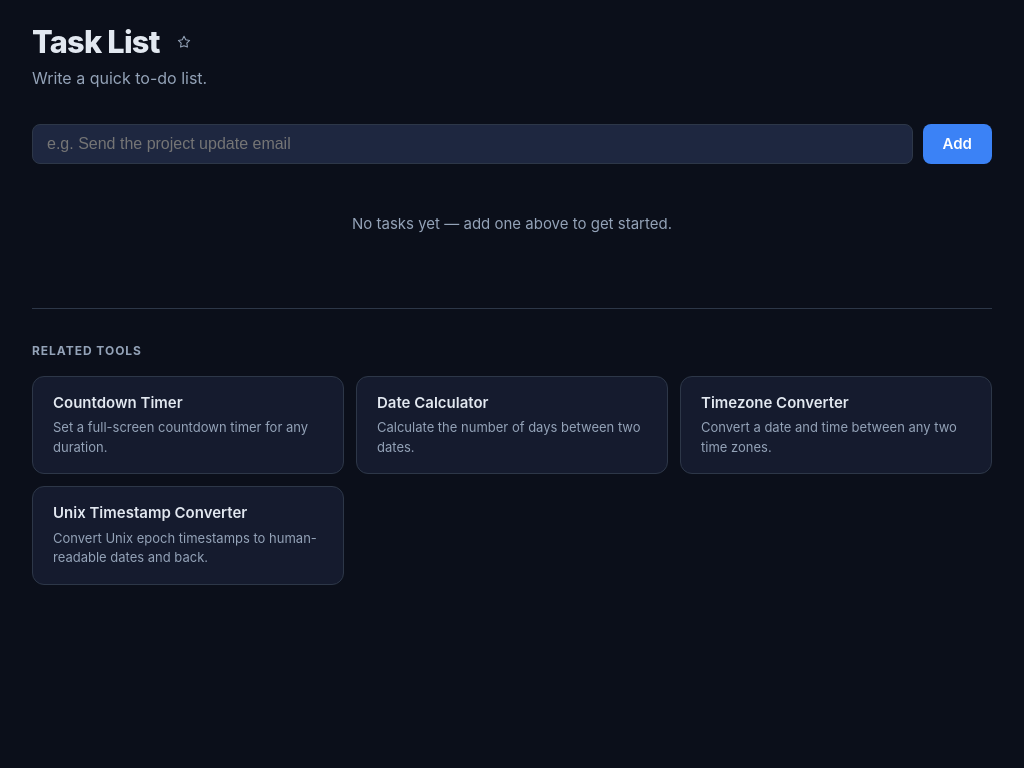
Test: TaskList › adds a task and shows it in the list
Type "Buy milk" into the field named "New task" at (472, 144), box [32, 124, 913, 164]
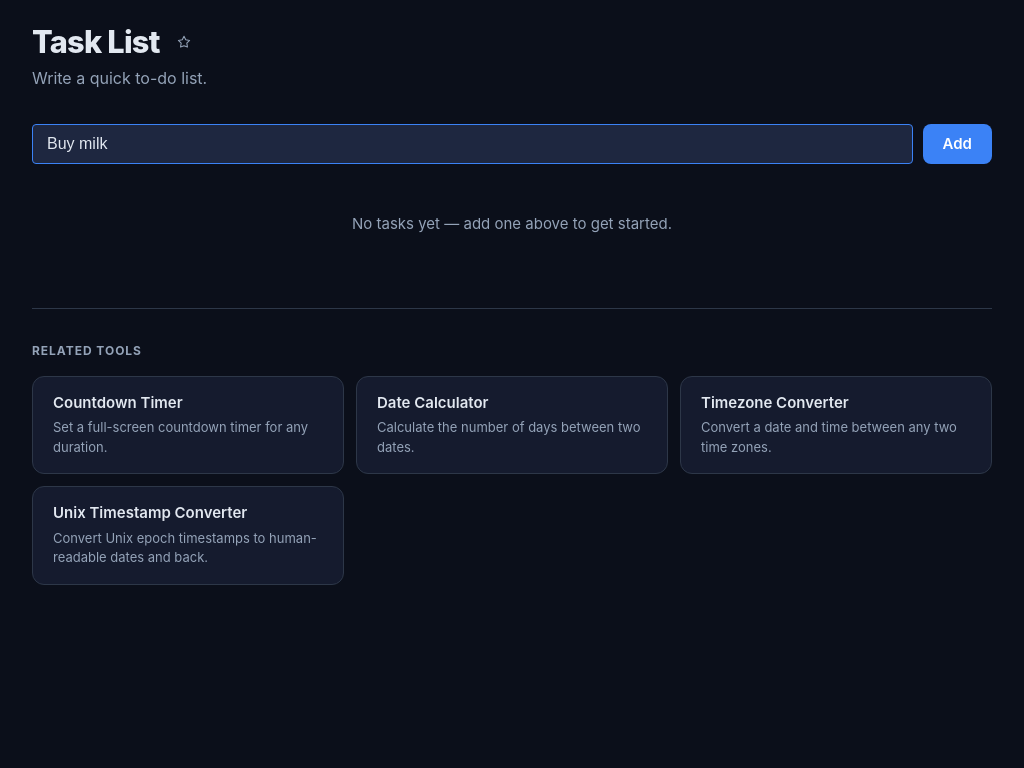
Click the button "Add" at (957, 144), box [923, 124, 992, 164]
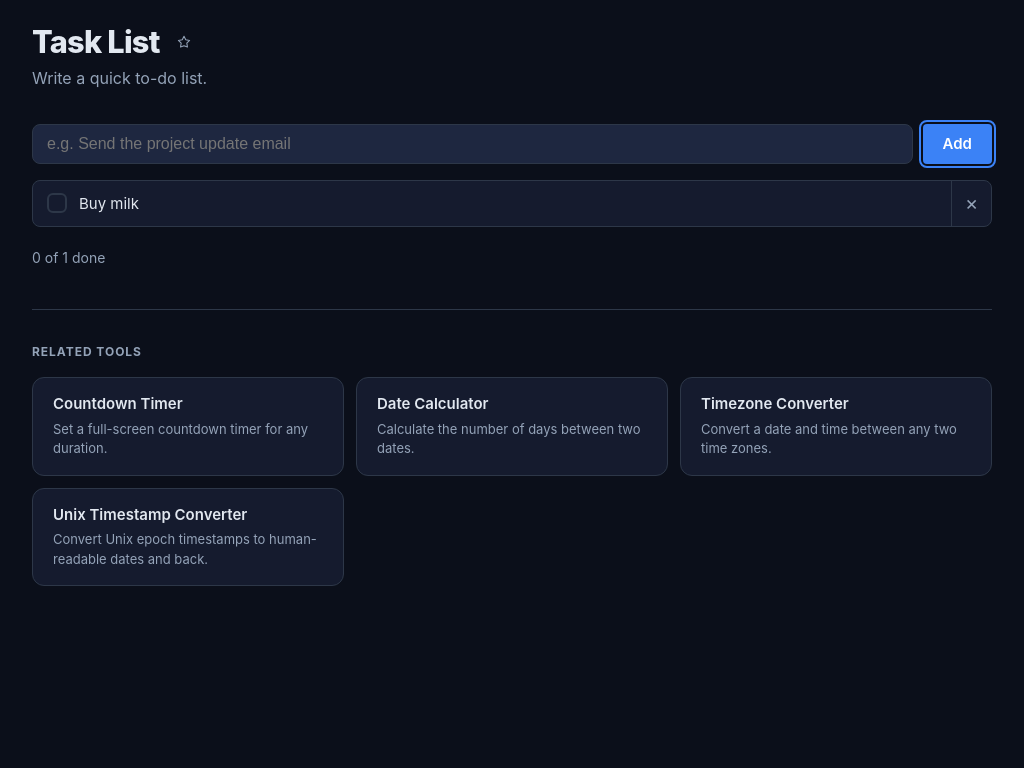
Result: the text "Buy milk" is shown at [79, 193, 139, 214]
Result: the text "0 of 1 done" is shown at [32, 247, 105, 269]
